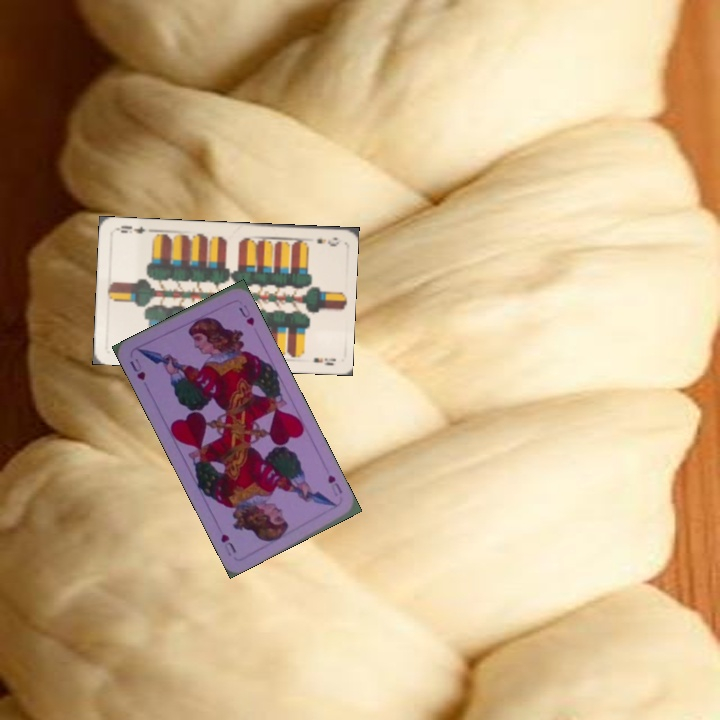E9: (313, 233, 341, 249)
HU: (126, 354, 148, 383), (323, 471, 345, 499)
